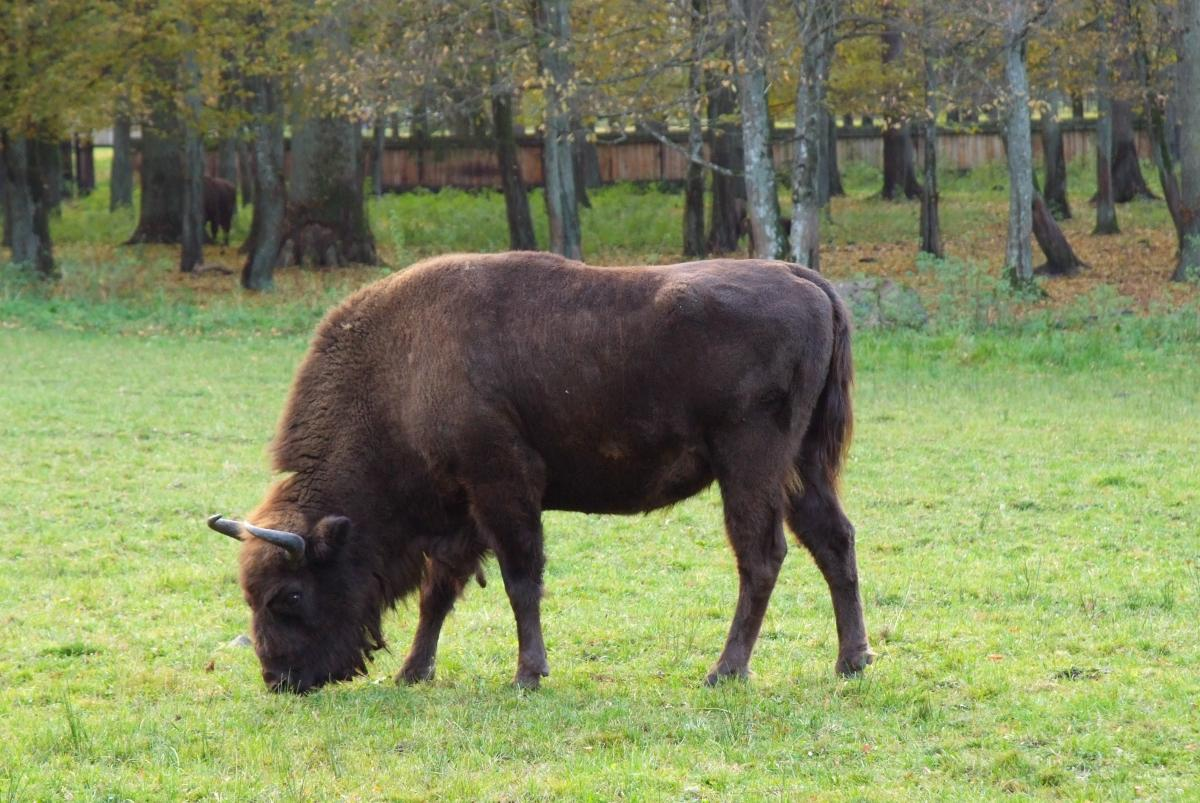zubr: (139, 198, 919, 720)
